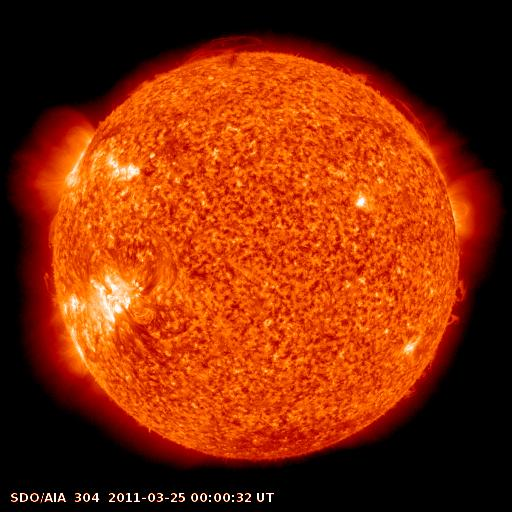prominence: (321, 56, 446, 149), (174, 29, 278, 65), (35, 206, 69, 301), (445, 273, 479, 307), (442, 311, 470, 333)
